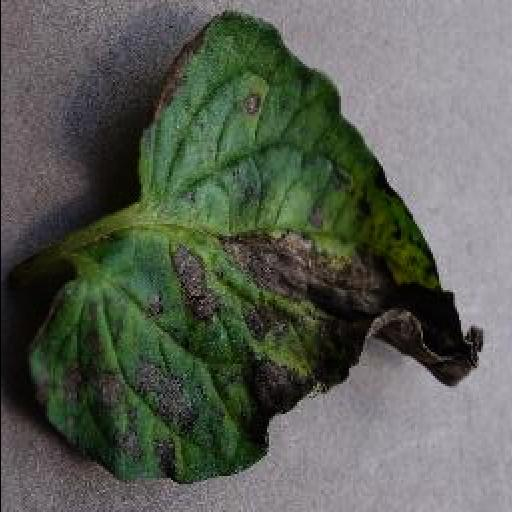disease_tomato: (22, 20, 482, 490)
